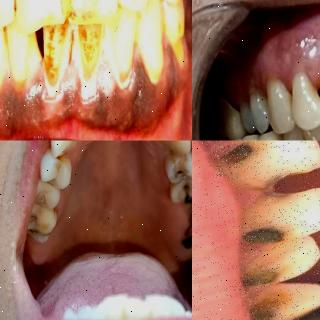Gum Swelling: (33, 61, 82, 104)
calculus: (81, 19, 115, 101), (107, 49, 139, 115), (58, 26, 83, 90)
cavities: (215, 140, 309, 188), (237, 203, 304, 253), (228, 262, 284, 292), (238, 296, 298, 320), (28, 211, 56, 253), (47, 146, 71, 176), (173, 181, 192, 211), (168, 164, 192, 186), (39, 175, 57, 201)
stains: (74, 18, 106, 92), (42, 22, 68, 82), (238, 97, 270, 137), (56, 0, 75, 18), (316, 70, 320, 104)
